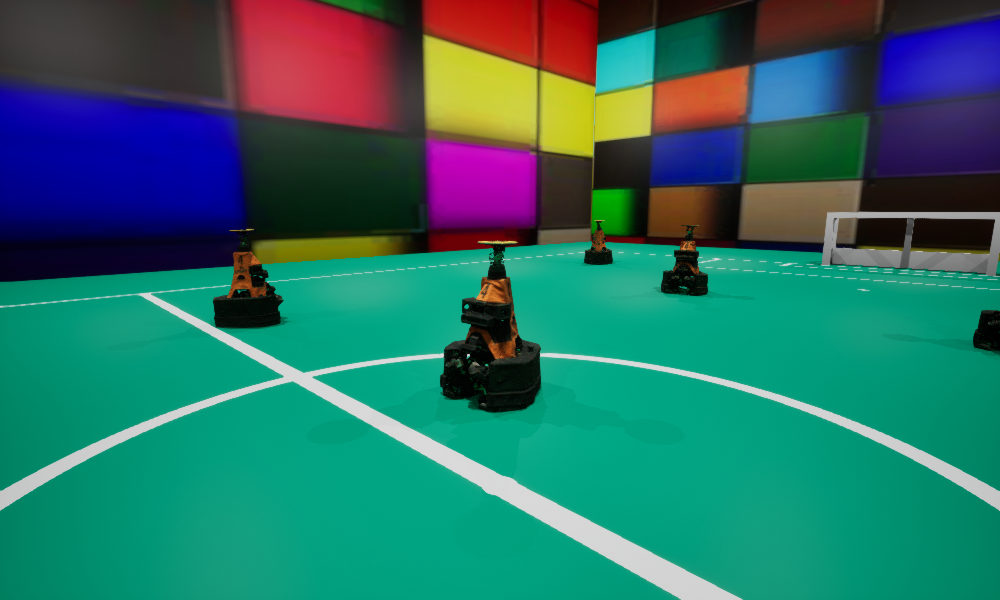0 orange robot TechUnited: (440, 240, 540, 410), (213, 229, 283, 327), (661, 225, 707, 294), (584, 220, 612, 264), (973, 310, 999, 350)
